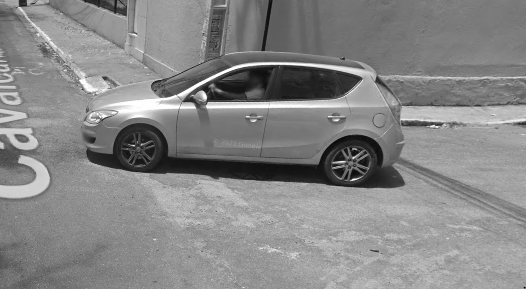car: (76, 48, 407, 190)
